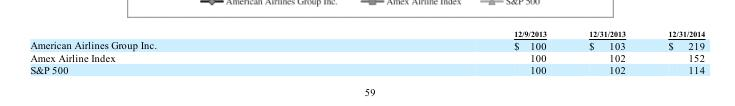table: (29, 28, 704, 74)
table column: (29, 28, 334, 74), (334, 28, 567, 74), (567, 28, 646, 74), (646, 28, 704, 74)
table column header: (29, 28, 704, 38)
table row: (29, 38, 704, 51), (29, 51, 704, 63), (29, 63, 704, 74), (29, 28, 704, 38)
